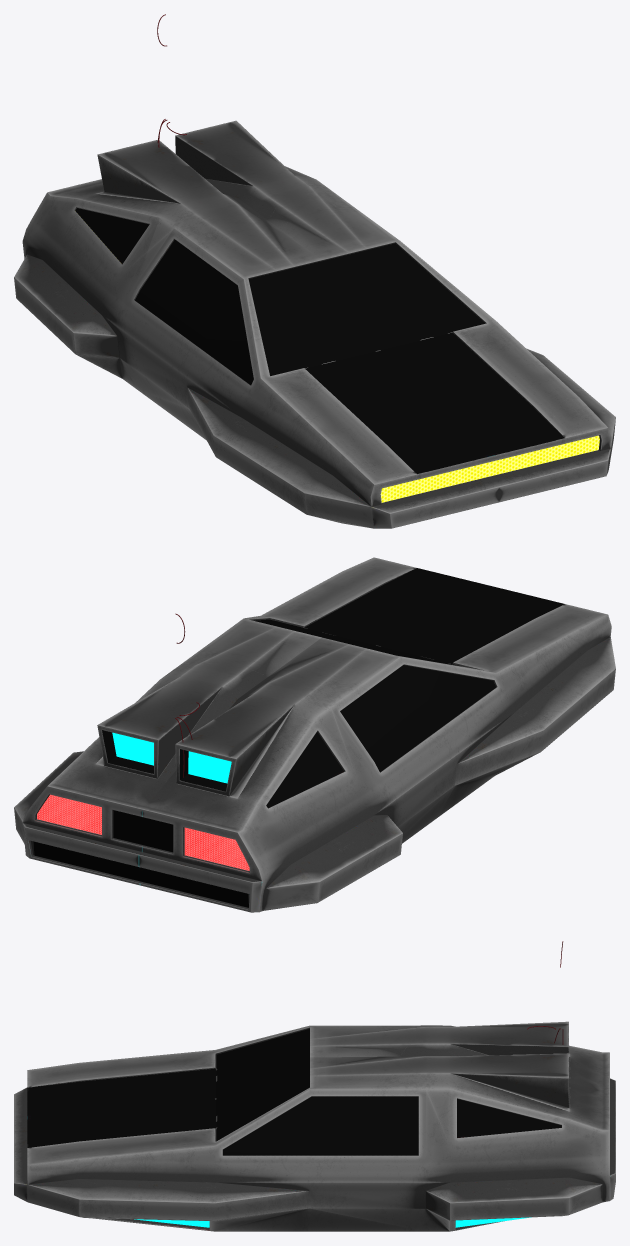
File: future_car.fbx
3 renders of one model, top to bottom at view 1: azimuth 30°, elevation 25°; view 2: azimuth 150°, elevation 25°; view 3: azimuth 270°, elevation 25°, orthographic. The views are drawn at different scales.
Parts seen in each view (by area): view 1: DMC Sci-Fi Hover Car; view 2: DMC Sci-Fi Hover Car; view 3: DMC Sci-Fi Hover Car.
Boxes of the visible parts, bbox=[...] form: DMC Sci-Fi Hover Car: bbox=[14, 120, 615, 528]; DMC Sci-Fi Hover Car: bbox=[14, 557, 615, 912]; DMC Sci-Fi Hover Car: bbox=[14, 1021, 615, 1231].
Size of the model in its own units: 221 by 184 by 417.
Materials: 4 (1 with a texture image).
